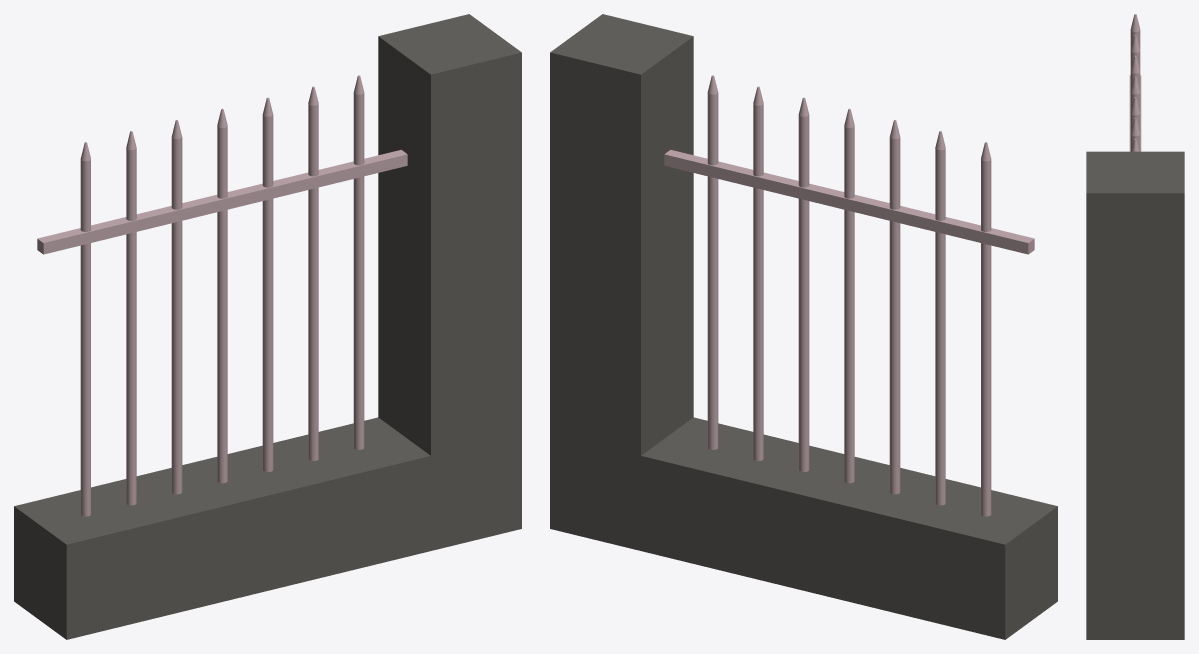
Rendered from Fence.glb.
The picture shows the model from 3 angles, left to right: view 1: azimuth 30°, elevation 25°; view 2: azimuth 150°, elevation 25°; view 3: azimuth 270°, elevation 25°; orthographic projection. The views are drawn at different scales.
Parts seen in each view (by area): view 1: Cube.001, Cube, Cube.002, Cylinder.002, Cylinder.001, Cylinder.004, Cylinder.003, Cylinder, Cylinder.005, Cylinder.006; view 2: Cube.001, Cube, Cube.002, Cylinder.002, Cylinder.001, Cylinder.004, Cylinder.003, Cylinder, Cylinder.005, Cylinder.006; view 3: Cube.001, Cube.002, Cylinder.001, Cylinder.003, Cylinder.004, Cylinder.005, Cylinder.006, Cylinder.
Boxes of the visible parts, x1=… form: Cube.001: x1=378, y1=14, x2=521, y2=550; Cube: x1=14, y1=417, x2=430, y2=639; Cube.002: x1=37, y1=149, x2=407, y2=254; Cylinder.002: x1=353, y1=75, x2=364, y2=449; Cylinder.001: x1=262, y1=97, x2=273, y2=471; Cylinder.004: x1=171, y1=120, x2=182, y2=494; Cylinder.003: x1=217, y1=108, x2=227, y2=483; Cylinder: x1=308, y1=86, x2=318, y2=460; Cylinder.005: x1=126, y1=131, x2=136, y2=505; Cylinder.006: x1=80, y1=142, x2=90, y2=516; Cube.001: x1=550, y1=14, x2=693, y2=550; Cube: x1=641, y1=417, x2=1057, y2=639; Cube.002: x1=664, y1=149, x2=1034, y2=254; Cylinder.002: x1=707, y1=75, x2=718, y2=449; Cylinder.001: x1=798, y1=97, x2=809, y2=471; Cylinder.004: x1=889, y1=120, x2=900, y2=494; Cylinder.003: x1=844, y1=108, x2=854, y2=483; Cylinder: x1=753, y1=86, x2=763, y2=460; Cylinder.005: x1=935, y1=131, x2=945, y2=505; Cylinder.006: x1=981, y1=142, x2=991, y2=516; Cube.001: x1=1086, y1=151, x2=1184, y2=639; Cube.002: x1=1129, y1=75, x2=1141, y2=151; Cylinder.001: x1=1130, y1=97, x2=1140, y2=132; Cylinder.003: x1=1130, y1=76, x2=1140, y2=111; Cylinder.004: x1=1130, y1=55, x2=1140, y2=90; Cylinder.005: x1=1130, y1=35, x2=1140, y2=70; Cylinder.006: x1=1130, y1=14, x2=1140, y2=49; Cylinder: x1=1130, y1=118, x2=1140, y2=151.
Bounding box in the file's own units: 2.5 × 2.5 × 0.5.
